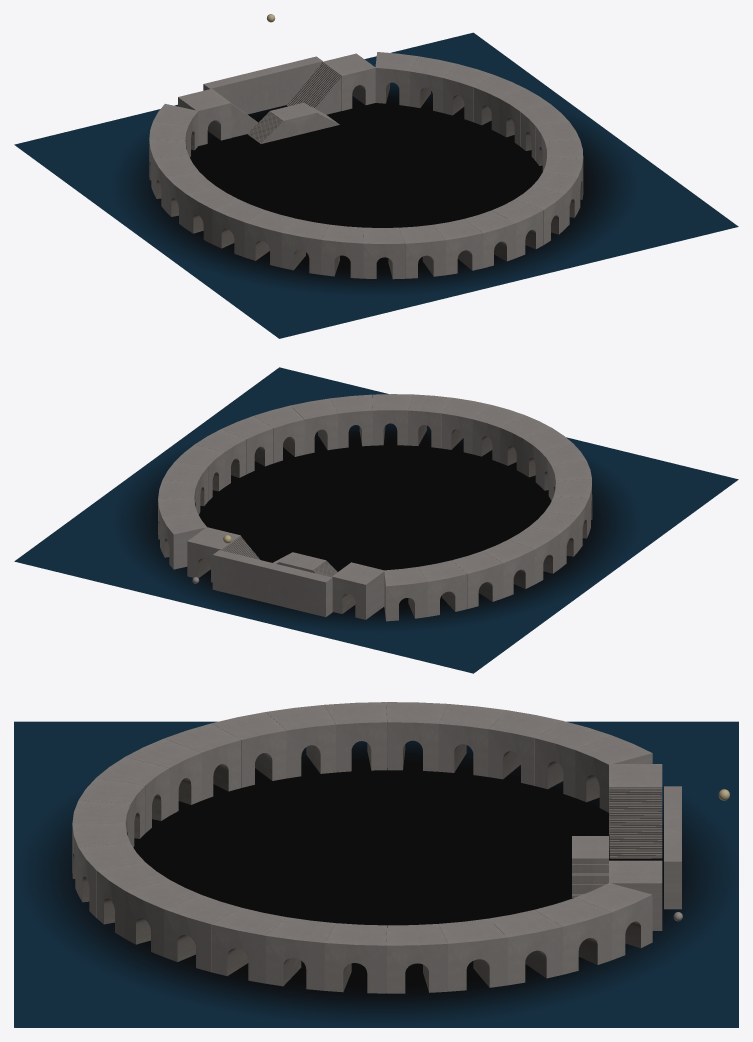
The model's file is aucalire22.gltf.
3 views of the same model, one above another, from view 1: azimuth 30°, elevation 25°; view 2: azimuth 150°, elevation 25°; view 3: azimuth 270°, elevation 25° (orthographic). The views are drawn at different scales.
Parts seen in each view (by area): view 1: nowy; view 2: nowy; view 3: nowy.
Part boxes in pixels (box(x1,y1,x2,y2)): nowy: box(14, 14, 738, 338); nowy: box(14, 367, 738, 673); nowy: box(14, 702, 738, 1027).
Size of the model in its own units: 297 by 46.19 by 297.
Materials: 1 (1 with a texture image).
